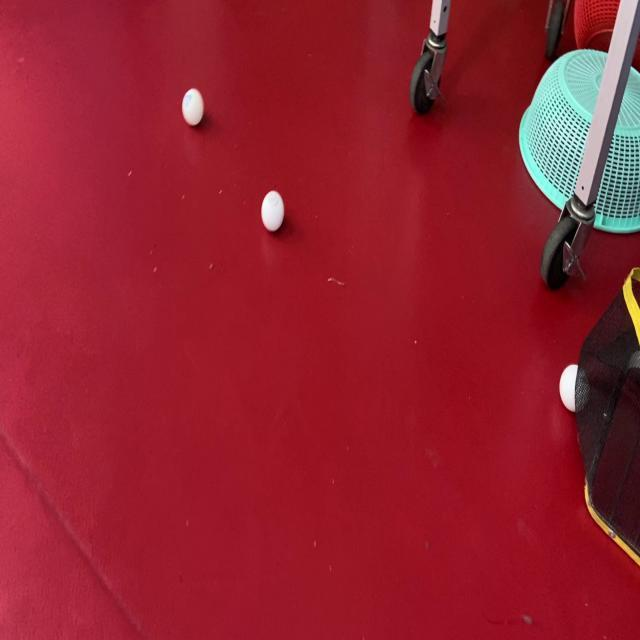ping-pong-ball: (258, 188, 286, 232), (180, 84, 206, 128)
